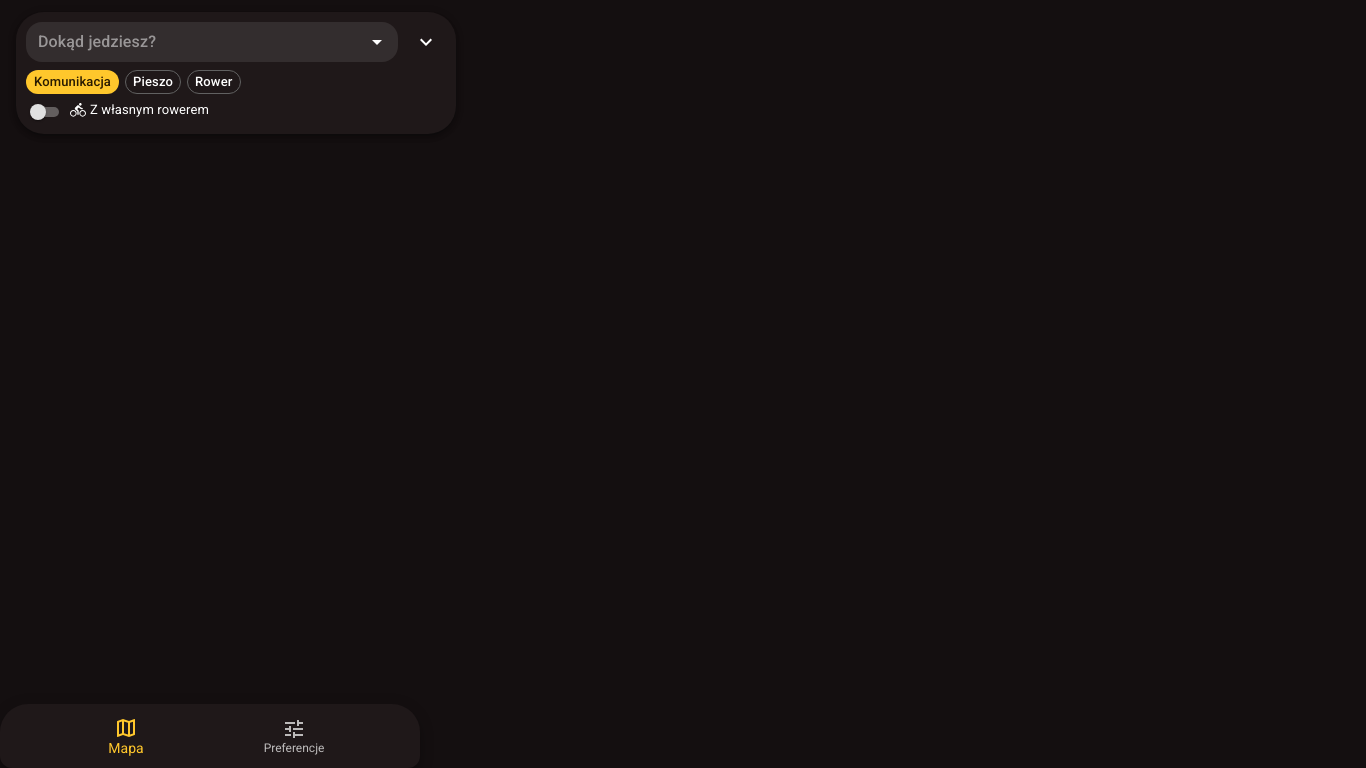
it: layout › phone (430 px): no side panel, the draggable sheets as before
The image size is (1366, 768).
Click the button named "Rozwiń wyszukiwanie" at {"x": 426, "y": 42}, box [406,22,446,62]
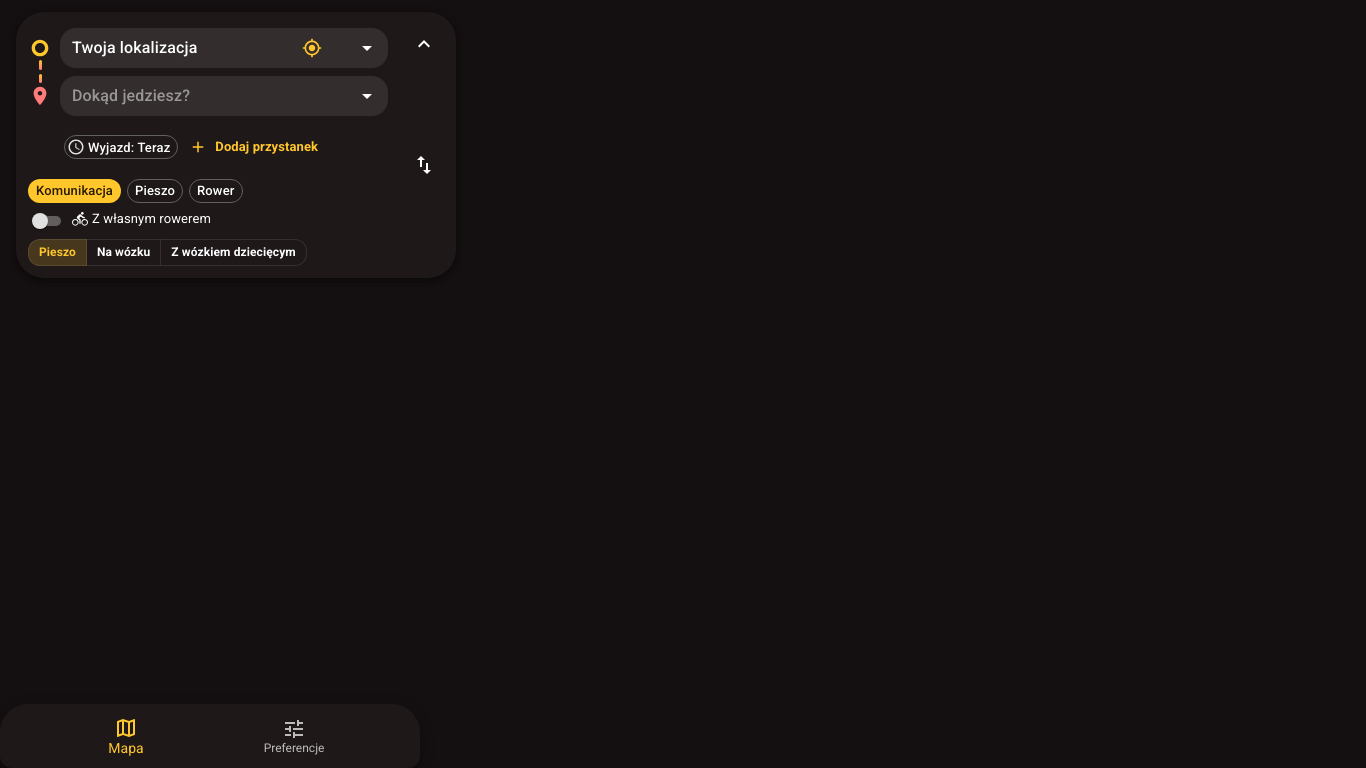
Result: the dropdown with placeholder "Skąd jedziesz?" holds "Twoja lokalizacja" at [68,28,289,68]
Type "Cel" into the dropdown with placeholder "Dokąd jedziesz?" at {"x": 206, "y": 96}, box [68,76,345,116]
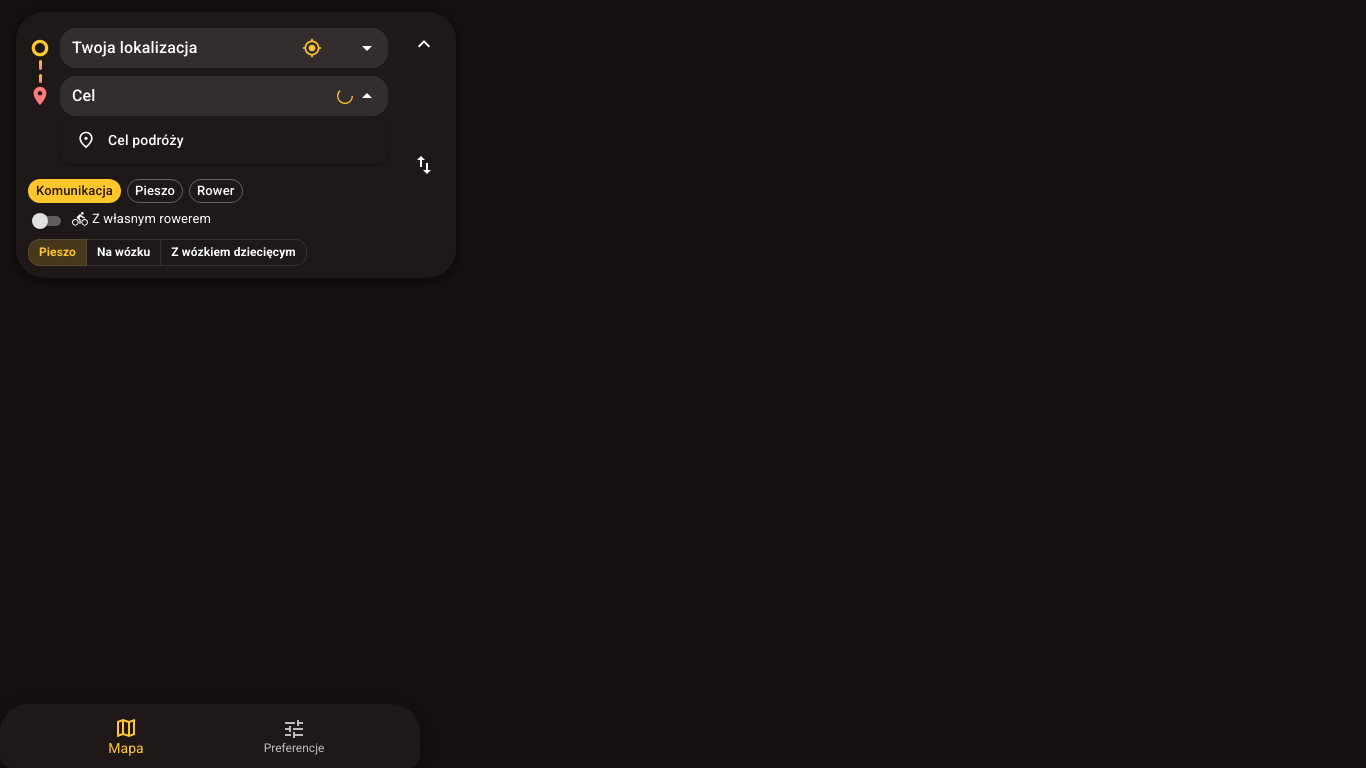
Click the option "Cel podróży" at {"x": 130, "y": 140}, box [76,130,184,150]
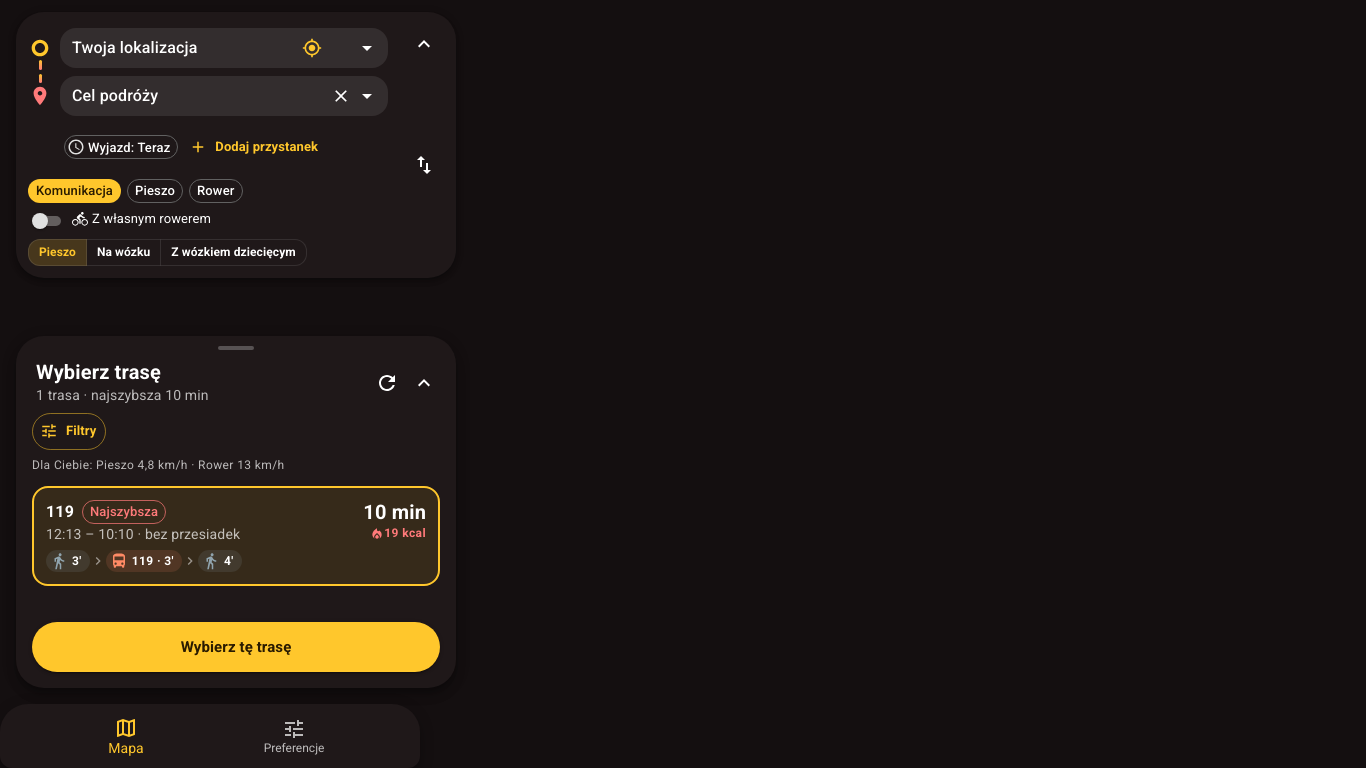
Result: the button with aria-label "Lista tras: przeciągnij, aby zmienić wysokość" is shown at [16,336,456,413]
